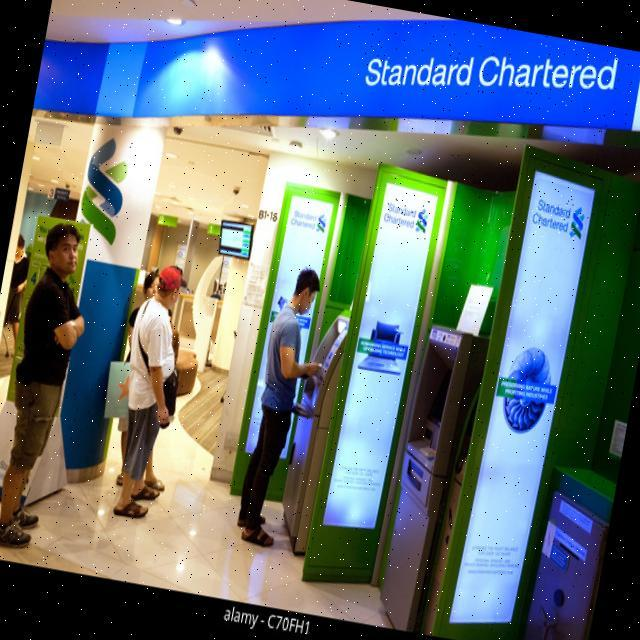Standard Chartered: (364, 5, 640, 135), (74, 132, 134, 246), (527, 190, 591, 242), (380, 194, 432, 241)
